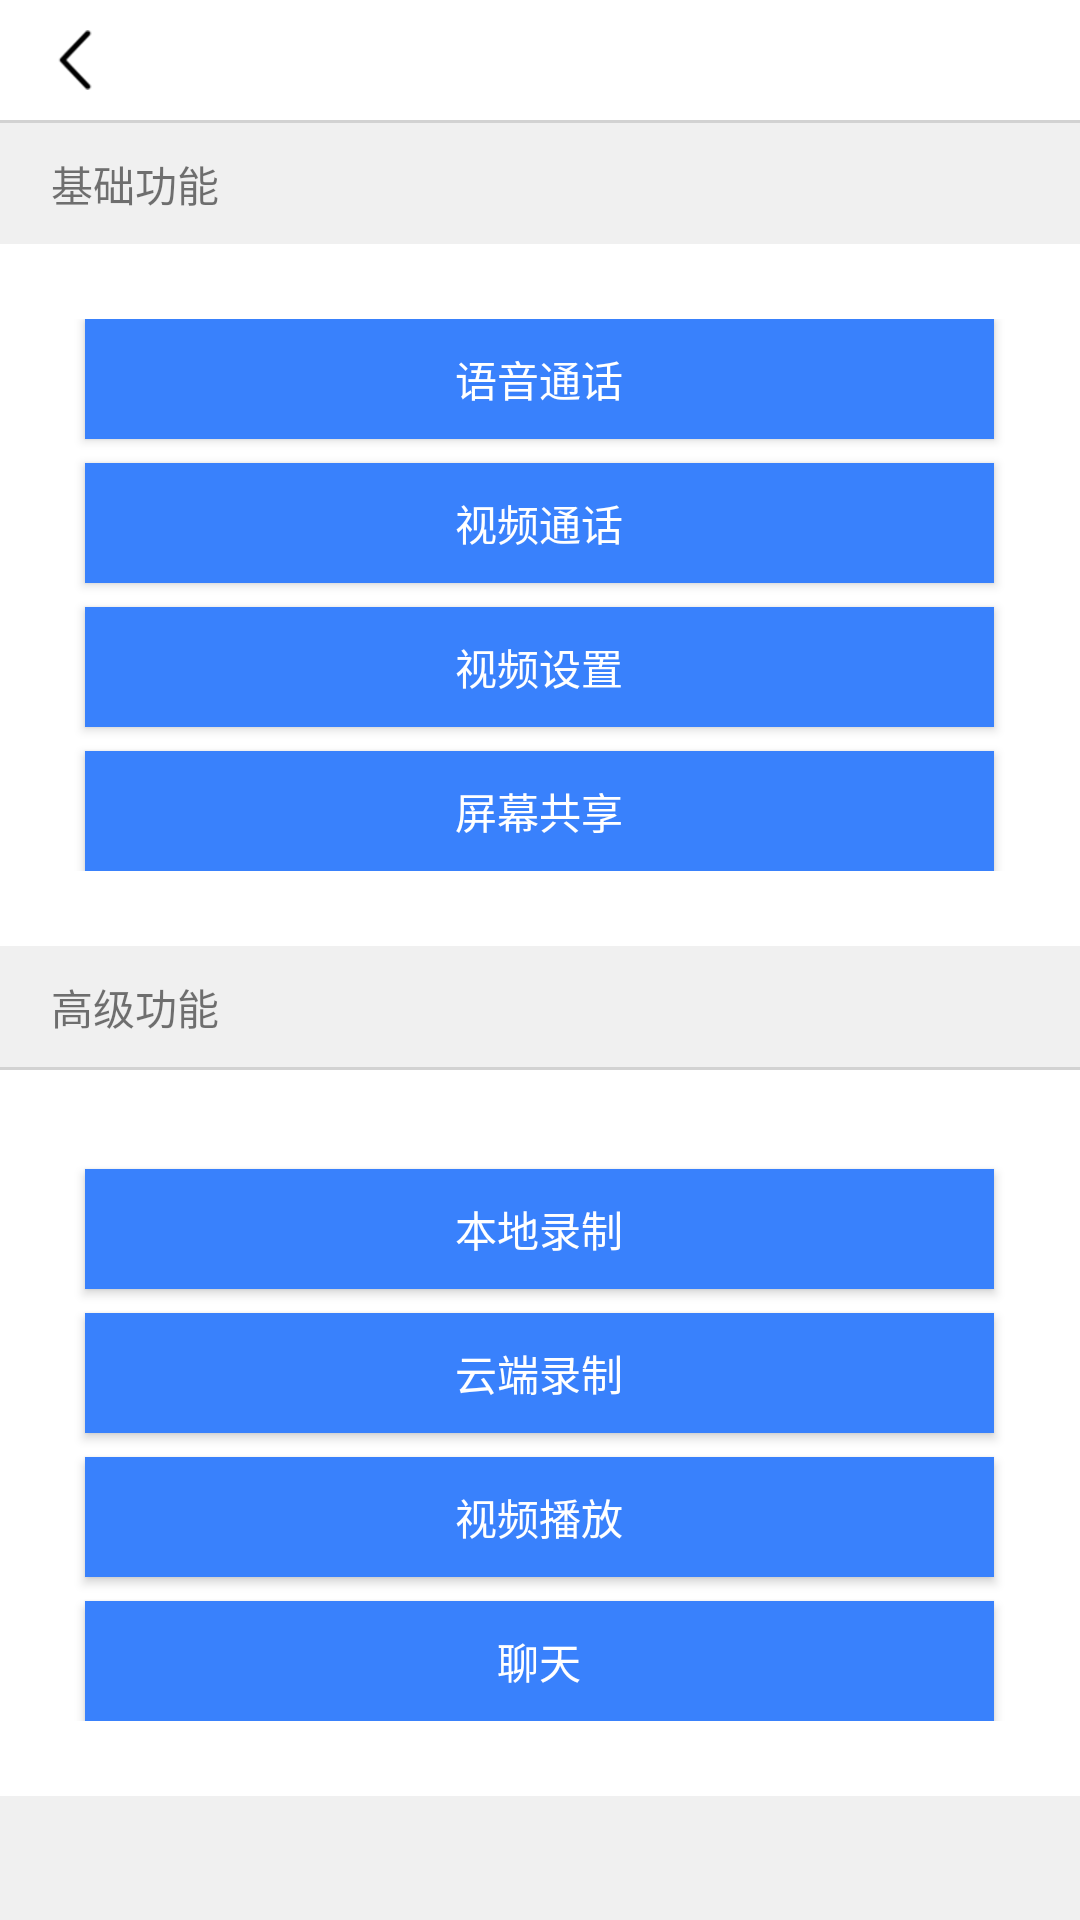

Screen size 1080px×1920px. Icon name, then its center in pixels as point (x, y):
back: point (75, 60)
